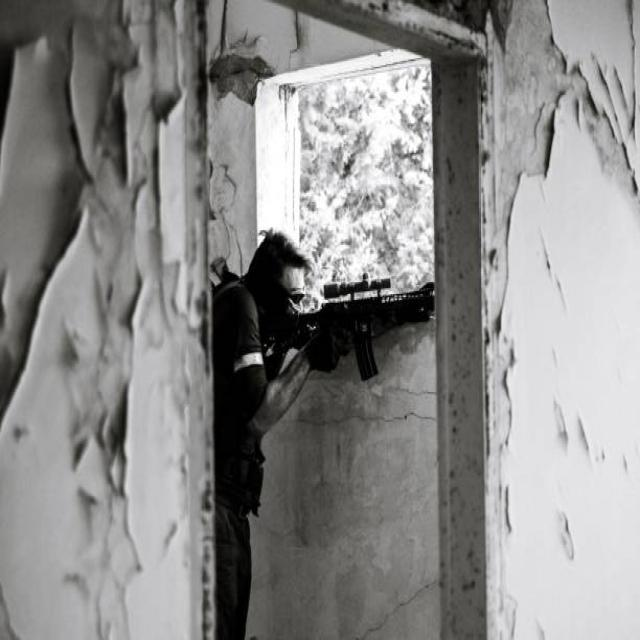soldier: (214, 177, 436, 640)
